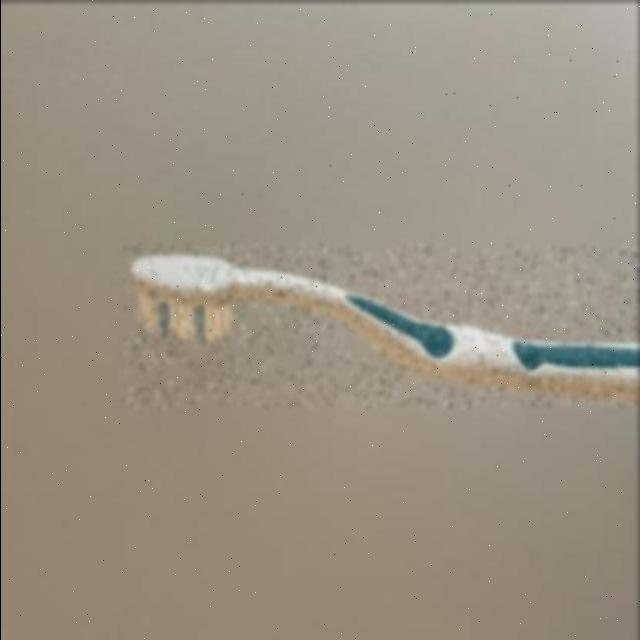toothbrush: (125, 244, 640, 406)
